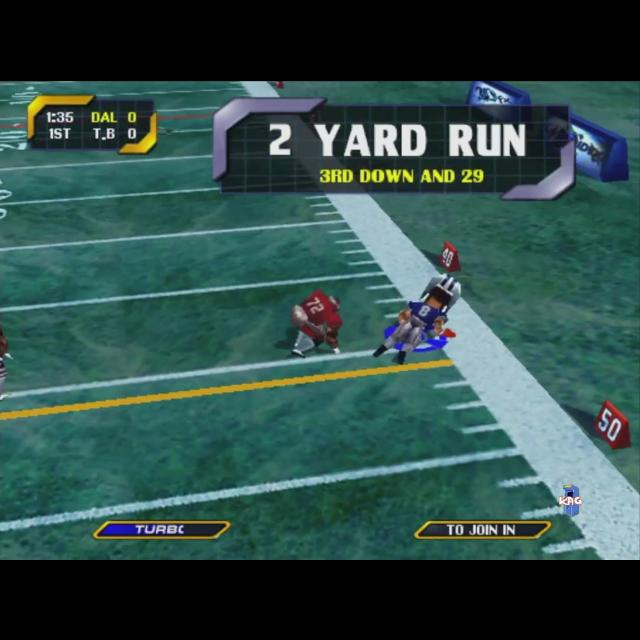player: (372, 272, 461, 364), (288, 288, 342, 357), (0, 324, 14, 400)
